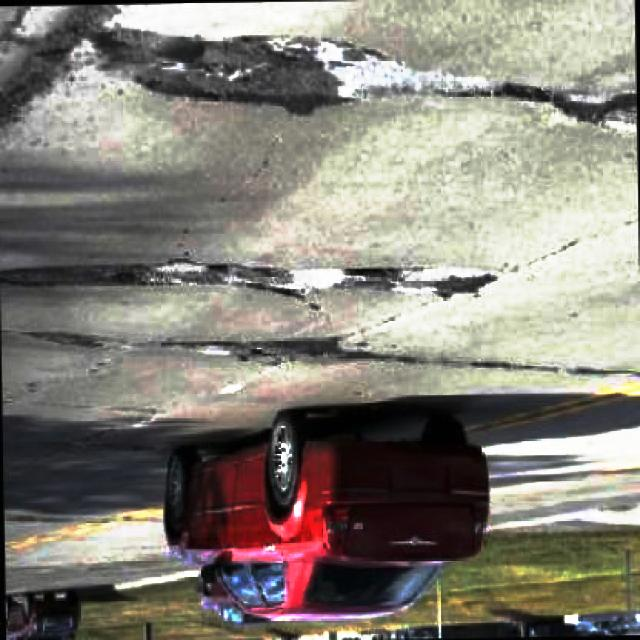pothole: (101, 20, 397, 112), (0, 9, 142, 120), (2, 241, 269, 294), (250, 260, 518, 305), (494, 78, 640, 131), (175, 326, 354, 369)
